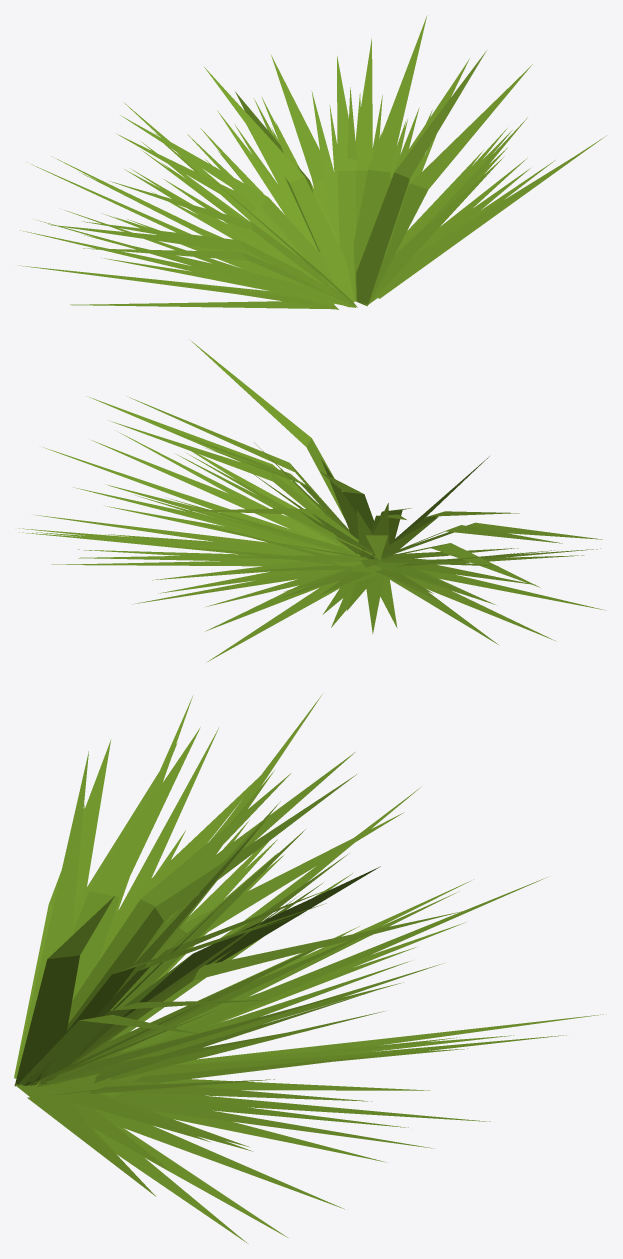
Rendered from grass_three.fbx.
The picture shows the model from 3 angles, top to bottom: view 1: azimuth 30°, elevation 25°; view 2: azimuth 150°, elevation 25°; view 3: azimuth 270°, elevation 25°; orthographic projection. The views are drawn at different scales.
Visible parts, largest first — view 1: grass_three; view 2: grass_three; view 3: grass_three.
Boxes of the visible parts, <box> form: grass_three: <box>17,15,606,309</box>; grass_three: <box>19,339,606,661</box>; grass_three: <box>14,694,603,1243</box>.
Bounding box in the file's own units: 88.41 × 29.27 × 51.36.
